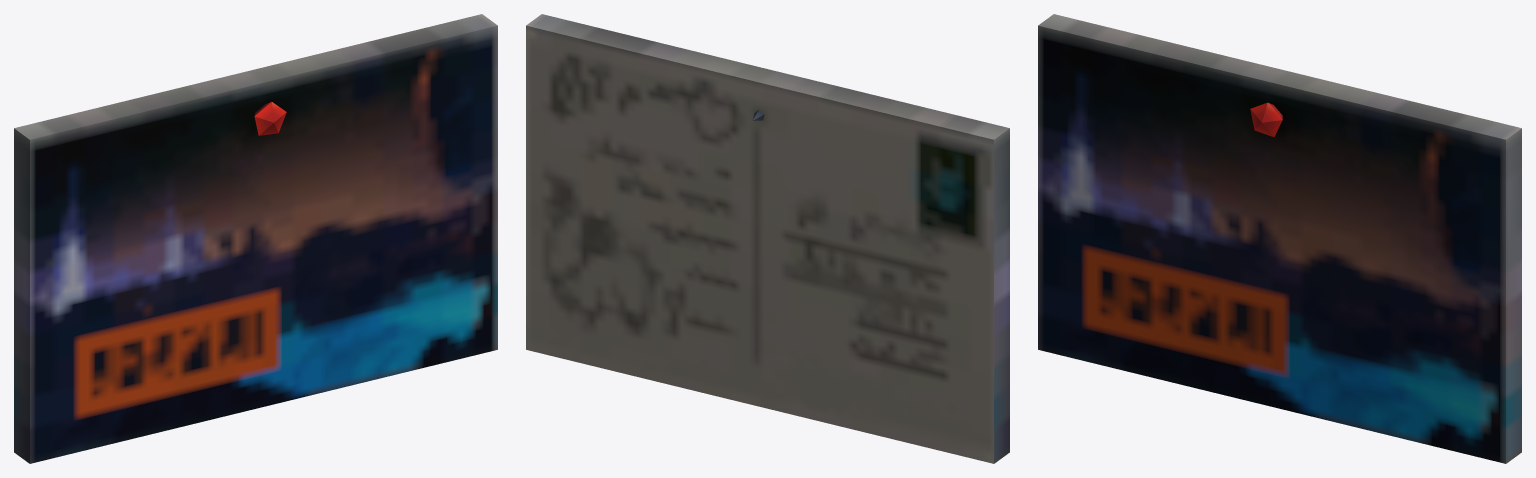
The model's file is postal6.2.fbx.
The picture shows the model from 3 angles, left to right: view 1: azimuth 30°, elevation 25°; view 2: azimuth 150°, elevation 25°; view 3: azimuth 330°, elevation 25°; orthographic projection.
Visible parts, largest first — view 1: s4studio_mesh_0; view 2: s4studio_mesh_0; view 3: s4studio_mesh_0.
Boxes of the visible parts, x1,y1,x2,y2 form: s4studio_mesh_0: (14,14,497,463); s4studio_mesh_0: (526,14,1009,463); s4studio_mesh_0: (1038,14,1521,463).
Size of the model in its own units: 24.03 by 15.9 by 2.99.
Materials: 1 (1 with a texture image).
